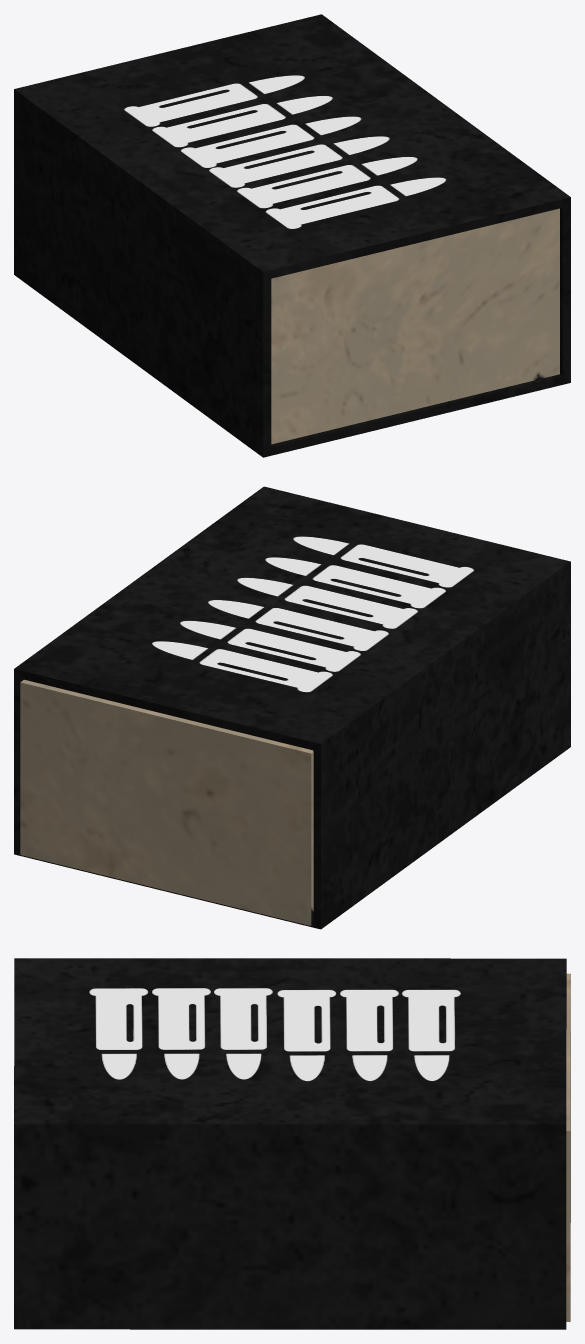
Rendered from pistol-ammo-box.fbx.
3 views of the same model, one above another, from view 1: azimuth 30°, elevation 25°; view 2: azimuth 150°, elevation 25°; view 3: azimuth 270°, elevation 25° (orthographic). The views are drawn at different scales.
Visible parts, largest first — view 1: part2.001, part1.001; view 2: part2.001, part1.001; view 3: part2.001, part1.001.
Part boxes in pixels (bbox=[...]): part2.001: bbox=[14, 14, 570, 457]; part1.001: bbox=[271, 208, 559, 444]; part2.001: bbox=[14, 486, 570, 929]; part1.001: bbox=[20, 679, 313, 925]; part2.001: bbox=[14, 958, 566, 1329]; part1.001: bbox=[566, 973, 570, 1321].
Bounding box in the file's own units: 62.88 × 36.67 × 89.05.
2 materials, 2 textured.
